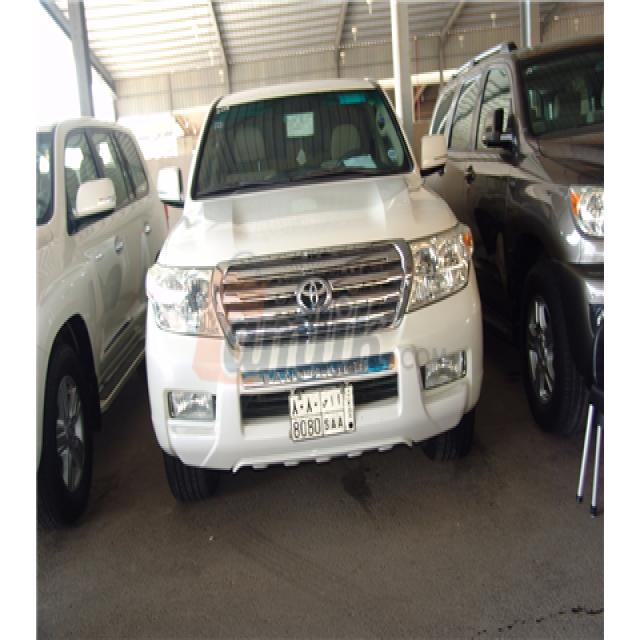license_plate: (288, 382, 357, 442)
